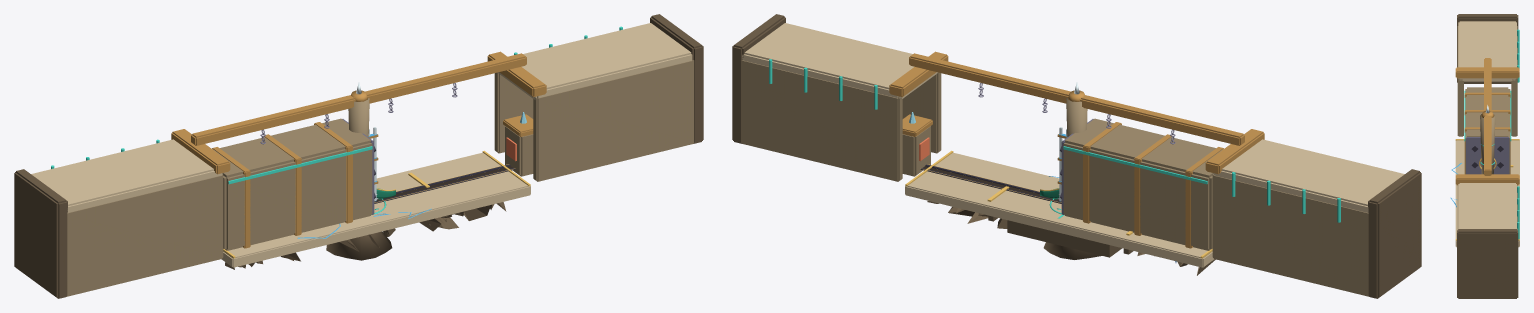
Rendered from props6-e5febd82.glb.
3 renders of one model, left to right at view 1: azimuth 30°, elevation 25°; view 2: azimuth 150°, elevation 25°; view 3: azimuth 270°, elevation 25°, orthographic. The views are drawn at different scales.
Visible parts, largest first — view 1: crusher_frame, crusher_block, crumble_tile, saw_track, drift_stone, gale_pylon, gale_bridge; view 2: crusher_frame, crusher_block, crumble_tile, saw_track, gale_bridge, gale_pylon, drift_stone; view 3: crusher_frame, crusher_block, crumble_tile, gale_pylon.
Boxes of the visible parts, <box> form: crusher_frame: <box>14,14,703,298</box>; crusher_block: <box>212,118,375,250</box>; crumble_tile: <box>221,150,530,269</box>; saw_track: <box>374,112,533,203</box>; drift_stone: <box>326,198,392,260</box>; gale_pylon: <box>348,82,369,137</box>; gale_bridge: <box>376,172,429,191</box>; crusher_frame: <box>732,14,1421,298</box>; crusher_block: <box>1060,118,1223,250</box>; crumble_tile: <box>905,150,1215,275</box>; saw_track: <box>902,112,1061,203</box>; gale_bridge: <box>987,186,1133,257</box>; gale_pylon: <box>1066,82,1087,137</box>; drift_stone: <box>1043,198,1101,259</box>; crusher_frame: <box>1455,14,1519,298</box>; crusher_block: <box>1464,87,1511,174</box>; crumble_tile: <box>1450,139,1519,247</box>; gale_pylon: <box>1480,105,1495,174</box>.
Bounding box in the file's own units: 20.25 × 5.29 × 2.73.
Materials: 1 (1 with a texture image).
